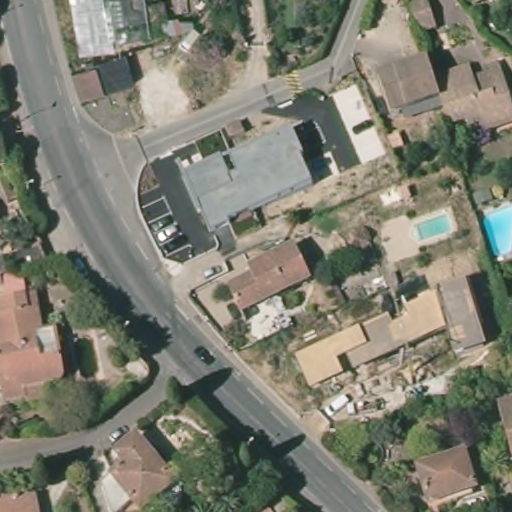pool: (478, 203, 512, 264), (408, 211, 458, 246)
